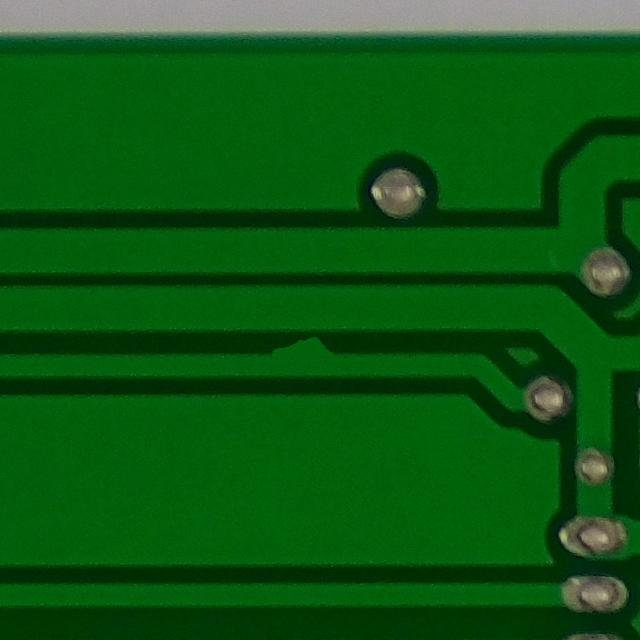spur: (263, 329, 343, 381)
